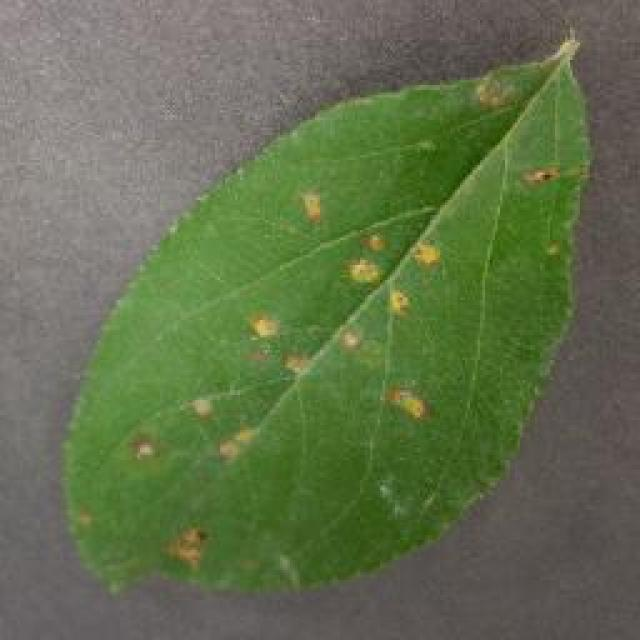apple healthy: (57, 25, 595, 597)
